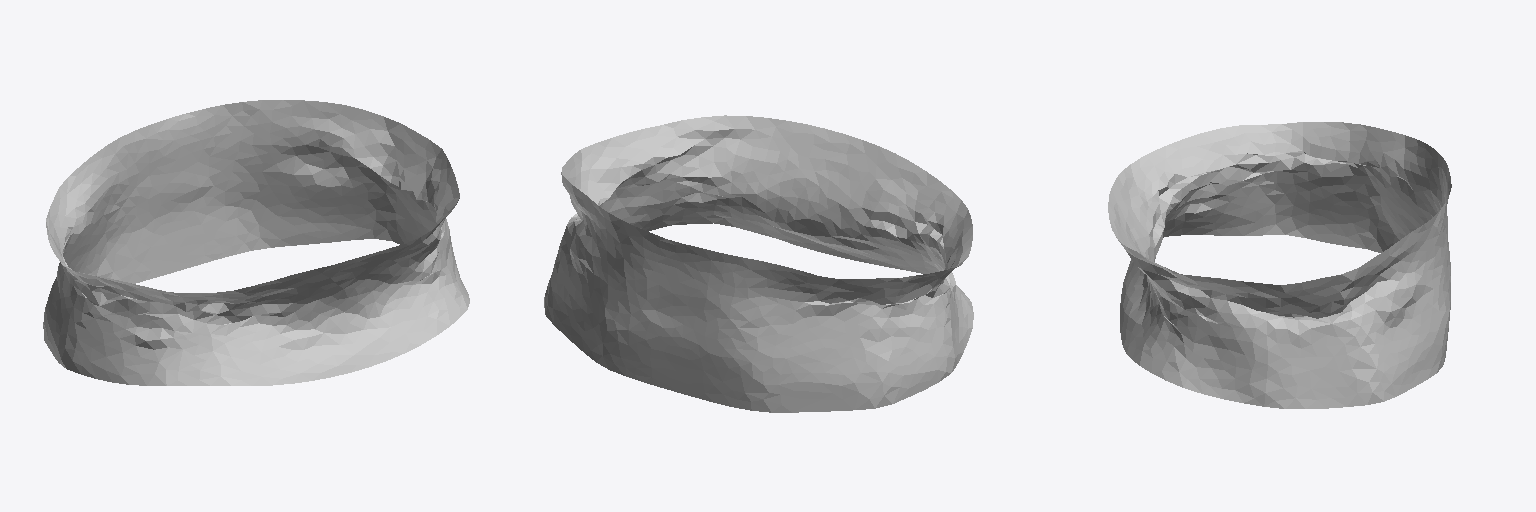
File: FajaHigh.obj
The picture shows the model from 3 angles: view 1: azimuth 30°, elevation 25°; view 2: azimuth 150°, elevation 25°; view 3: azimuth 270°, elevation 25°; orthographic projection.
Bounding box in the file's own units: 543 × 214 × 418.